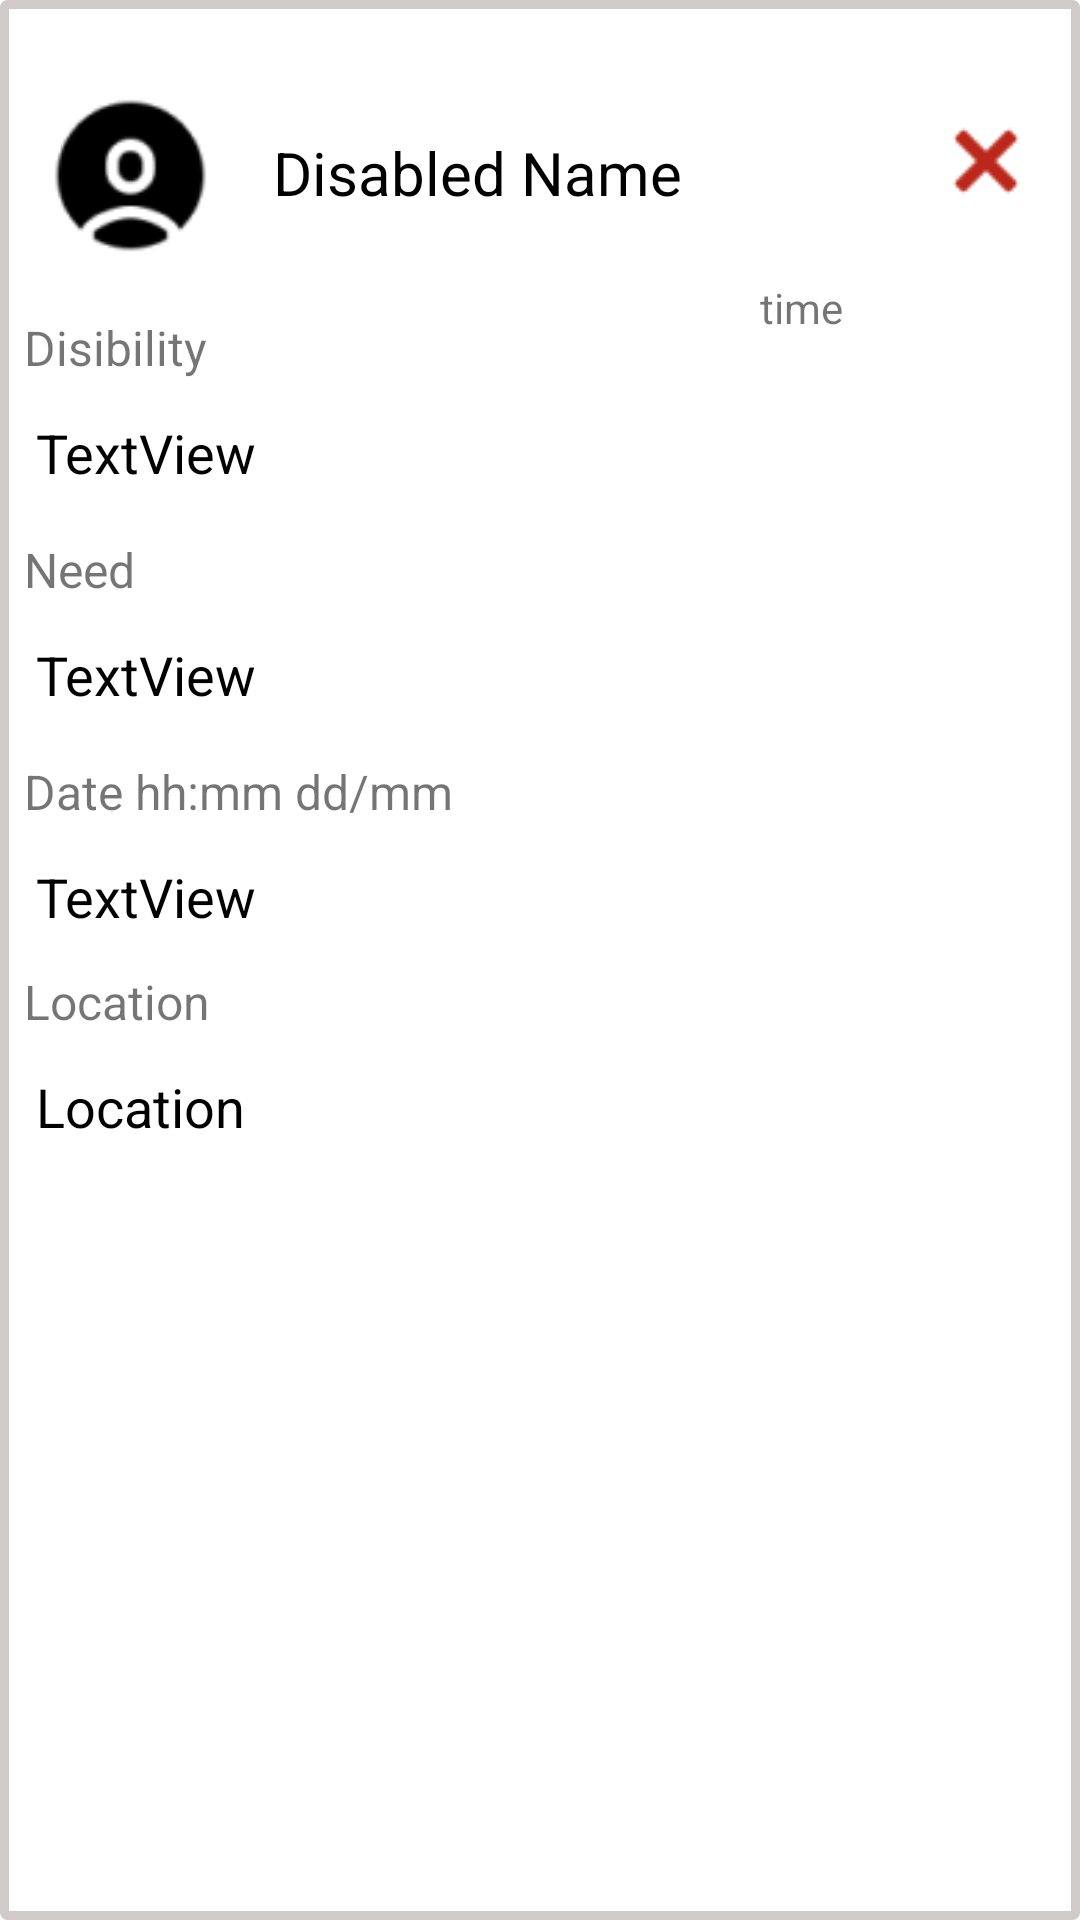

Locate icon controls on the screen. Image size 1080 x 1920, boxes as (x1, y1, x2, y2).
close: (953, 128, 1019, 194)
user: (55, 100, 206, 251)
